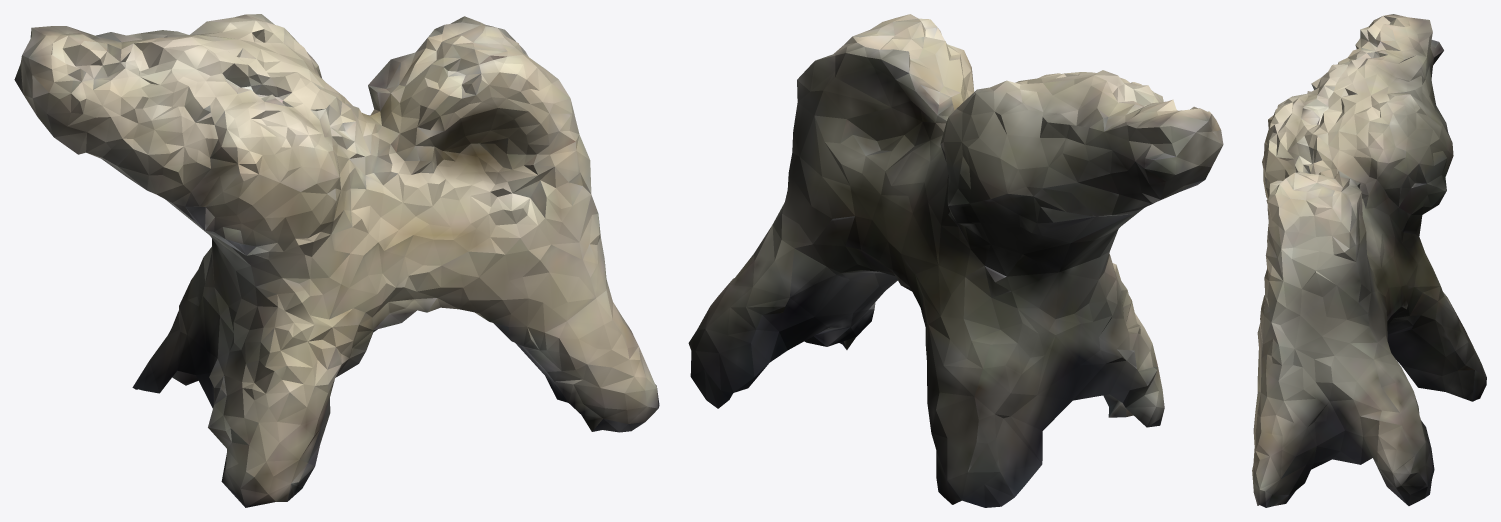
3 renders of one model, left to right at view 1: azimuth 30°, elevation 25°; view 2: azimuth 150°, elevation 25°; view 3: azimuth 270°, elevation 25°, orthographic. The views are drawn at different scales.
Parts seen in each view (by area): view 1: Model4; view 2: Model4; view 3: Model4.
Boxes of the visible parts, x1=… form: Model4: x1=14, y1=14, x2=659, y2=507; Model4: x1=688, y1=14, x2=1223, y2=507; Model4: x1=1252, y1=14, x2=1486, y2=507.
Bounding box in the file's own units: 0.0518 × 0.0388 × 0.026.
Materials: 1 (1 with a texture image).
